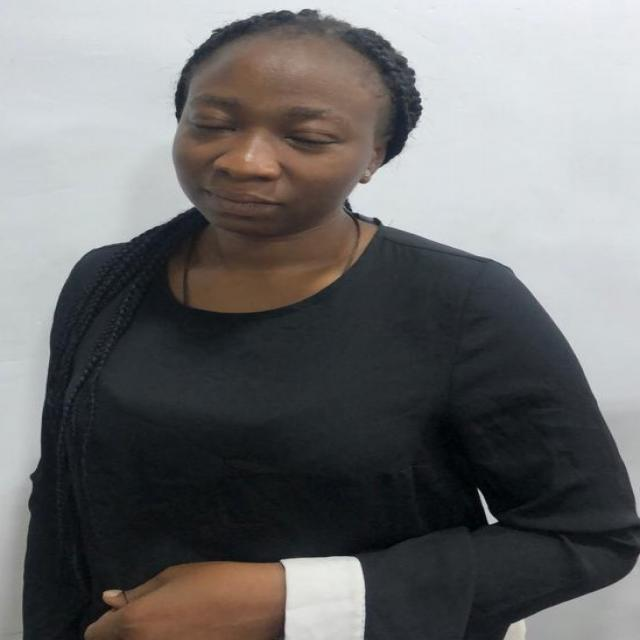sad: (161, 17, 385, 236)
